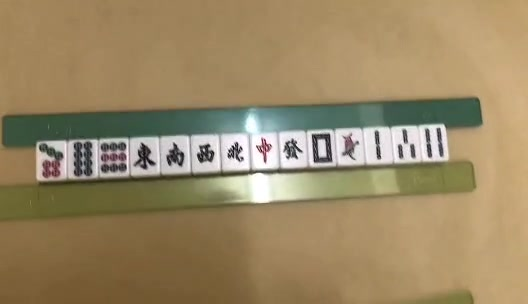1s: (343, 133, 361, 160)
1z: (134, 140, 155, 170)
2s: (373, 131, 383, 159)
2z: (166, 143, 185, 167)
3s: (397, 127, 418, 160)
3z: (197, 144, 215, 163)
4s: (424, 128, 444, 157)
4z: (227, 143, 245, 162)
5z: (311, 133, 332, 163)
6z: (284, 138, 302, 161)
7p: (40, 143, 64, 178)
7z: (257, 140, 274, 163)
8p: (73, 141, 92, 176)
9p: (99, 141, 127, 174)
